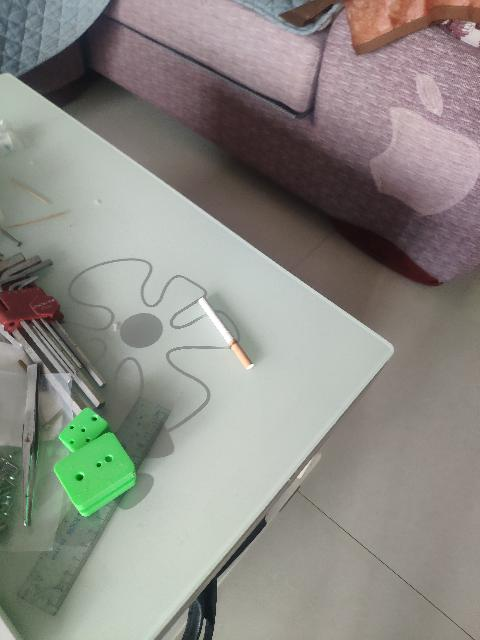Cigarette: (198, 296, 256, 372)
